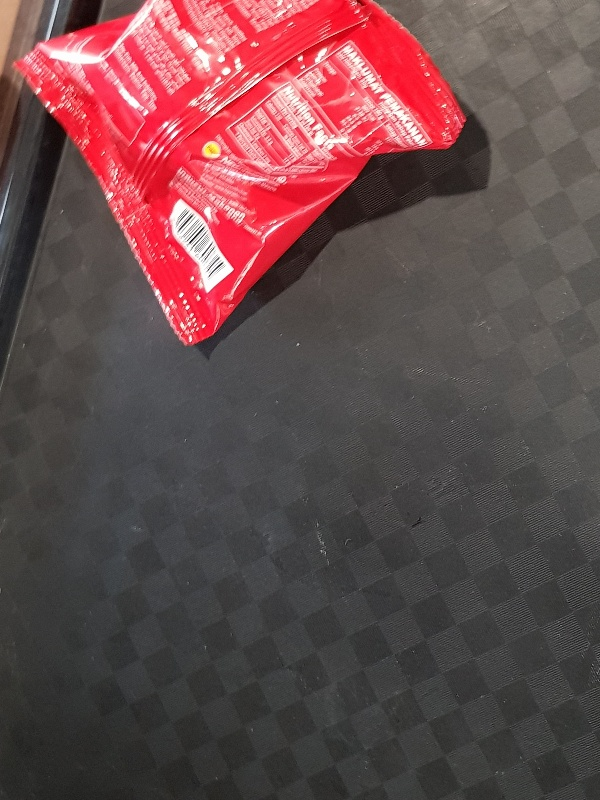ShoyueMi Spicy Flavoured Snacks: (13, 1, 472, 349)
